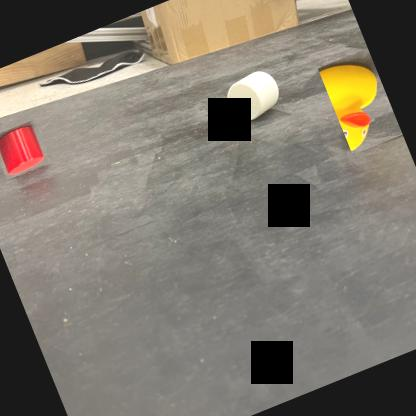duck: (318, 48, 402, 154)
red cylinder: (0, 118, 51, 179)
white cylinder: (216, 60, 289, 130)
